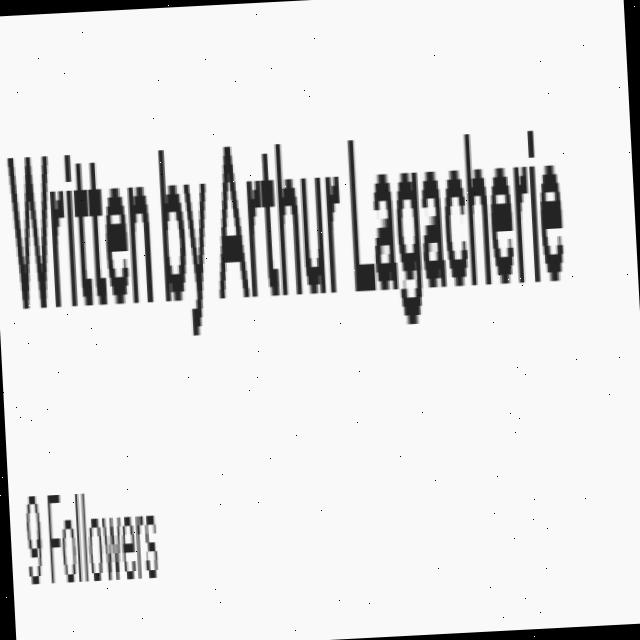word: (339, 87, 576, 338), (3, 127, 160, 348), (209, 123, 352, 365), (154, 122, 219, 360), (44, 478, 167, 602), (22, 482, 49, 609)
